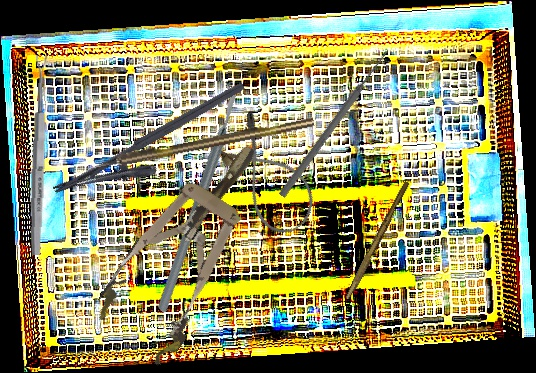Cannula: (206, 108, 326, 243)
Chopper: (83, 79, 309, 314)
Hook Surgical: (86, 116, 316, 172)
Needle Holder: (51, 81, 261, 221)
Pusher: (277, 47, 392, 200)
Scalpel Handle: (344, 179, 411, 302)
Speculum: (85, 122, 293, 371)
Surgical Spoon: (28, 54, 50, 256)
